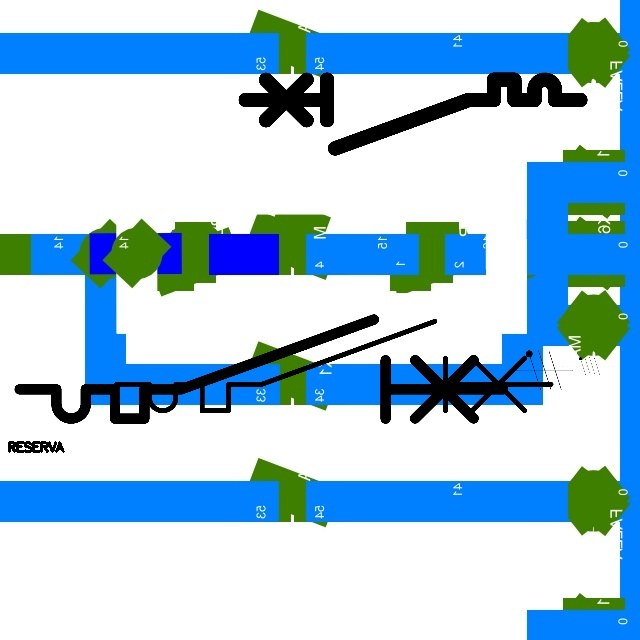interruptor_termomagnetico: (7, 307, 515, 431), (105, 310, 562, 422), (237, 71, 589, 157)
